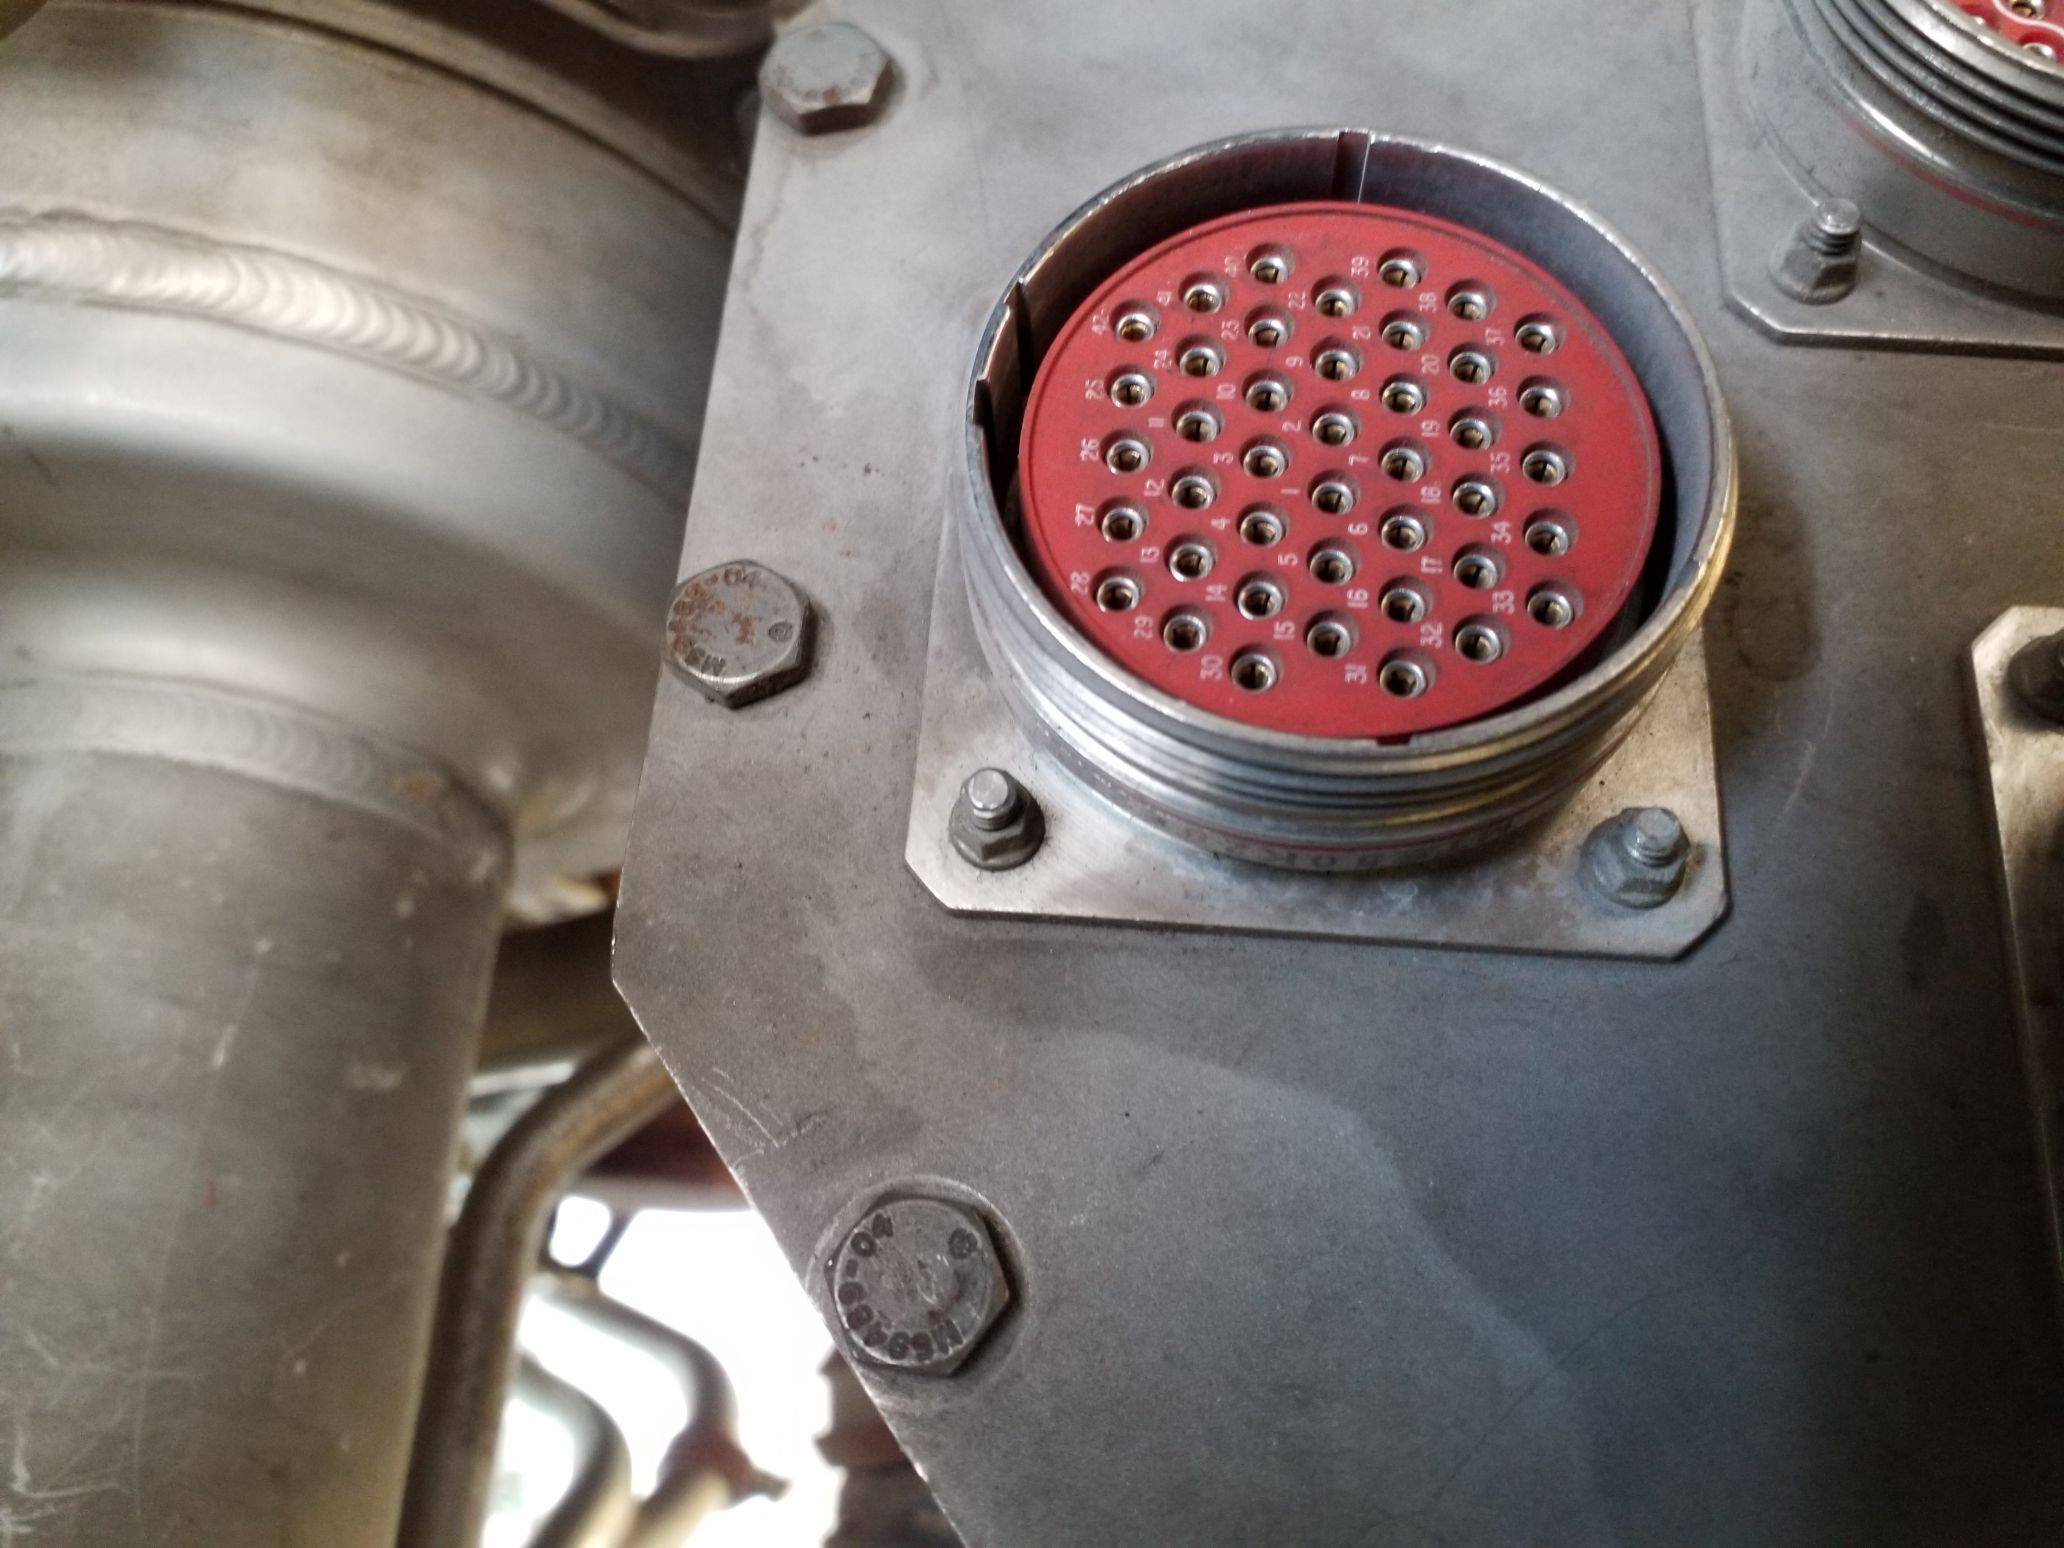inletnumbers: (960, 104, 1742, 772)
